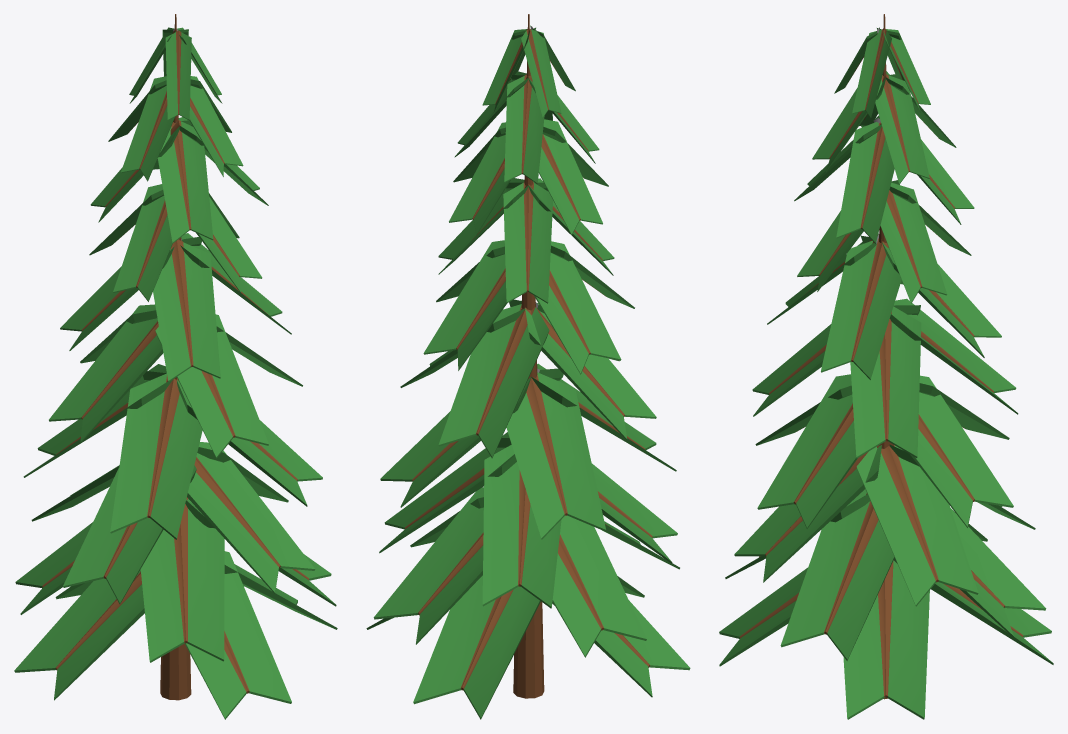
The model's file is gBBackGroundTree_v01.fbx.
The picture shows the model from 3 angles, left to right: view 1: azimuth 30°, elevation 25°; view 2: azimuth 150°, elevation 25°; view 3: azimuth 270°, elevation 25°; orthographic projection.
Parts seen in each view (by area): view 1: treeBranch_06, treeBranch_015, treeBranch_010, treeBranch_022, treeBranch_04, treeBranch_01, treeBranch_019, treeBranch_018, treeBranch_011, treeBranch_029, treeBranch_026, treeBranch_014 (+21 smaller); view 2: treeBranch_016, treeBranch_03, treeBranch_012, treeBranch_020, treeBranch_07, treeBranch_08, treeBranch_027, treeBranch_023, treeBranch_024, treeBranch_019, treeBranch_09, treeBranch_030 (+19 smaller); view 3: treeBranch_05, treeBranch_09, treeBranch_02, treeBranch_017, treeBranch_014, treeBranch_021, treeBranch_013, treeBranch_010, treeBranch_032, treeBranch_028, treeBranch_08, treeBranch_036 (+17 smaller).
Boxes of the visible parts, <box> form: treeBranch_06: <box>140,497,224,662</box>; treeBranch_015: <box>110,373,202,539</box>; treeBranch_010: <box>187,442,315,593</box>; treeBranch_022: <box>153,239,220,381</box>; treeBranch_04: <box>14,569,144,700</box>; treeBranch_01: <box>185,551,291,719</box>; treeBranch_019: <box>49,304,163,442</box>; treeBranch_018: <box>155,314,268,458</box>; treeBranch_011: <box>63,465,196,604</box>; treeBranch_029: <box>157,120,213,243</box>; treeBranch_026: <box>113,184,172,301</box>; treeBranch_014: <box>176,378,322,506</box>; treeBranch_016: <box>506,372,605,539</box>; treeBranch_03: <box>413,575,540,719</box>; treeBranch_012: <box>482,445,561,608</box>; treeBranch_020: <box>438,304,549,458</box>; treeBranch_07: <box>552,515,646,657</box>; treeBranch_08: <box>373,487,483,644</box>; treeBranch_027: <box>503,182,552,303</box>; treeBranch_023: <box>534,241,621,374</box>; treeBranch_024: <box>423,240,507,370</box>; treeBranch_019: <box>525,303,656,440</box>; treeBranch_09: <box>379,432,516,553</box>; treeBranch_030: <box>539,119,602,235</box>; treeBranch_05: <box>780,489,894,660</box>; treeBranch_09: <box>856,445,978,606</box>; treeBranch_02: <box>843,560,929,719</box>; treeBranch_017: <box>850,306,921,458</box>; treeBranch_014: <box>757,374,857,528</box>; treeBranch_021: <box>821,238,901,379</box>; treeBranch_013: <box>910,375,1013,527</box>; treeBranch_010: <box>734,445,881,582</box>; treeBranch_032: <box>836,122,894,243</box>; treeBranch_028: <box>880,182,946,303</box>; treeBranch_08: <box>950,508,1046,637</box>; treeBranch_036: <box>875,74,929,184</box>.
Size of the model in its own units: 1058 by 2400 by 1073.
